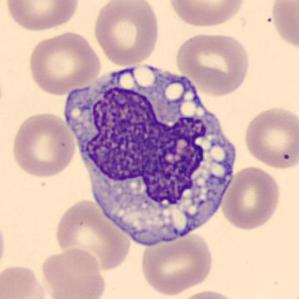Monocyte: (64, 51, 242, 253)
RBC: (53, 197, 132, 273), (25, 28, 102, 96), (173, 30, 252, 96), (139, 230, 214, 296), (91, 0, 162, 68), (10, 110, 76, 179), (220, 164, 283, 231), (242, 103, 298, 171), (39, 246, 107, 299), (3, 0, 81, 33), (164, 0, 248, 29), (0, 261, 51, 299), (265, 0, 298, 54), (173, 288, 242, 299), (0, 213, 7, 276)
